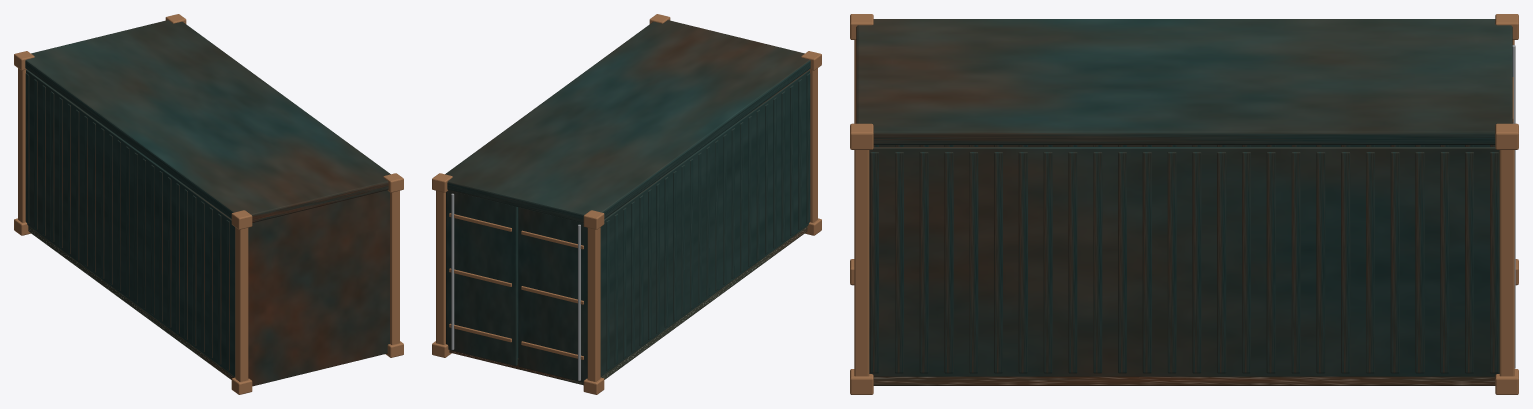
File: container.glb
The picture shows the model from 3 angles, left to right: view 1: azimuth 30°, elevation 25°; view 2: azimuth 150°, elevation 25°; view 3: azimuth 270°, elevation 25°; orthographic projection. The views are drawn at different scales.
Visible parts, largest first — view 1: Roof.001, EndA, SidePanel_-1, Post_-1_-3.03, Post_1_-3.03, Floor, Post_-1_3.03, Rib_-1_8, Rib_-1_25, Rib_-1_5, Rib_-1_22, Rib_-1_12 (+21 smaller); view 2: Roof.001, SidePanel_-1, Door_1, Door_-1, Post_-1_3.03, Floor, Post_1_3.03, Post_-1_-3.03, Rib_-1_17, Rib_-1_0, Rib_-1_20, Rib_-1_3 (+24 smaller); view 3: SidePanel_1, Roof.001, Floor, Post_1_-3.03, Post_1_3.03, Rib_1_12, Rib_1_13, Rib_1_17, Rib_1_18, Rib_1_2, Rib_1_22, Rib_1_23 (+22 smaller).
Boxes of the visible parts, left/top/right/bottom form: Roof.001: left=25, top=20, right=390, bottom=222; EndA: left=248, top=190, right=389, bottom=386; SidePanel_-1: left=26, top=70, right=235, bottom=376; Post_-1_-3.03: left=235, top=227, right=248, bottom=381; Post_1_-3.03: left=390, top=190, right=399, bottom=344; Floor: left=28, top=226, right=235, bottom=379; Post_-1_3.03: left=18, top=68, right=26, bottom=222; Rib_-1_8: left=167, top=177, right=171, bottom=327; Rib_-1_25: left=25, top=73, right=29, bottom=223; Rib_-1_5: left=192, top=195, right=196, bottom=345; Rib_-1_22: left=50, top=91, right=54, bottom=241; Rib_-1_12: left=134, top=152, right=137, bottom=303; Roof.001: left=445, top=20, right=810, bottom=222; SidePanel_-1: left=600, top=70, right=809, bottom=376; Door_1: left=446, top=190, right=518, bottom=365; Door_-1: left=518, top=207, right=587, bottom=382; Post_-1_3.03: left=587, top=227, right=600, bottom=381; Floor: left=449, top=226, right=807, bottom=385; Post_1_3.03: left=436, top=190, right=445, bottom=344; Post_-1_-3.03: left=809, top=68, right=817, bottom=222; Rib_-1_17: left=664, top=177, right=668, bottom=327; Rib_-1_0: left=806, top=73, right=810, bottom=223; Rib_-1_20: left=639, top=195, right=643, bottom=345; Rib_-1_3: left=781, top=91, right=785, bottom=241; SidePanel_1: left=869, top=147, right=1499, bottom=376; Roof.001: left=856, top=19, right=1512, bottom=144; Floor: left=873, top=376, right=1495, bottom=385; Post_1_-3.03: left=854, top=150, right=869, bottom=376; Post_1_3.03: left=1499, top=150, right=1514, bottom=376; Rib_1_12: left=1167, top=152, right=1176, bottom=373; Rib_1_13: left=1192, top=152, right=1201, bottom=373; Rib_1_17: left=1291, top=152, right=1300, bottom=373; Rib_1_18: left=1316, top=152, right=1325, bottom=373; Rib_1_2: left=919, top=152, right=928, bottom=373; Rib_1_22: left=1415, top=152, right=1424, bottom=373; Rib_1_23: left=1440, top=152, right=1449, bottom=373.
Bounding box in the file's own units: 2.66 × 2.72 × 6.28.
Materials: 4 (2 with a texture image).
